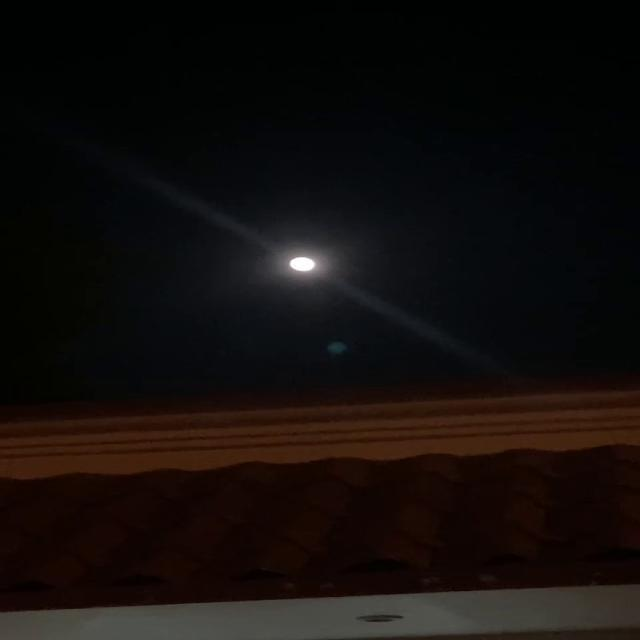moon: (292, 253, 332, 271)
